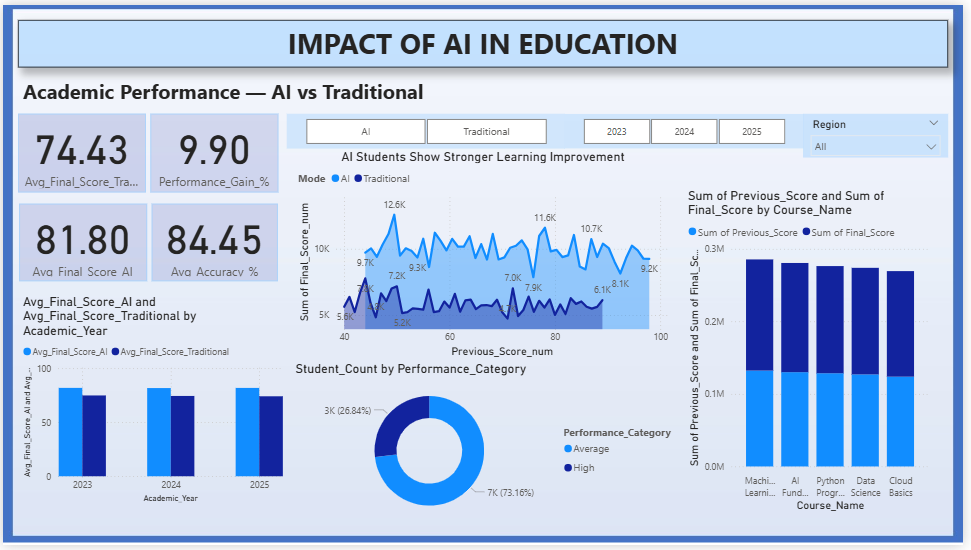

The dashboard page shown, as its layout file describes it:
{"tool":"powerbi","page":{"name":"AI vs Traditional","canvas":[1280,720],"ordinal":0},"visuals":[{"type":"textbox","box":[21.7,91.7,551.7,61.7],"z":0},{"type":"card","fields":{"Values":["AI_Data.Avg_Final_Score_AI_"]},"box":[21.7,265,170,103.3],"z":1000},{"type":"card","fields":{"Values":["AI_Data.Avg_Final_Score_Traditional"]},"box":[20,145,170,105],"z":2000},{"type":"card","fields":{"Values":["AI_Data.Performance_Gain_%"]},"box":[196.7,145,170,105],"z":3000},{"type":"card","fields":{"Values":["AI_Data.Avg_Accuracy_%"]},"box":[198.3,265,168.3,103.3],"z":4000},{"type":"areaChart","title":"AI Students Show Stronger Learning Improvement","fields":{"Category":["AI_Data.Previous_Score_num"],"Series":["AI_Data.Mode"],"Y":["Sum(AI_Data.Final_Score_num)"]},"box":[388.3,191.7,503.3,283.3],"z":5000},{"type":"donutChart","fields":{"Y":["AI_Data.Student_Count"],"Category":["AI_Data.Performance_Category"]},"box":[385,475,523.3,220],"z":6000},{"type":"clusteredColumnChart","fields":{"Y":["AI_Data.Avg_Final_Score_AI","AI_Data.Avg_Final_Score_Traditional"],"Category":["AI_Data.Academic_Year"]},"box":[21.7,385,356.7,283.3],"z":7000},{"type":"slicer","fields":{"Values":["AI_Data.Academic_Year"]},"box":[748.3,145,318.3,46.7],"z":8000},{"type":"slicer","fields":{"Values":["AI_Data.Region"]},"box":[1066.7,145,193.3,58.3],"z":9000},{"type":"textbox","box":[20,20,1240,63.3],"z":10000},{"type":"slicer","fields":{"Values":["AI_Data.Mode"]},"box":[378.3,145,370,46.7],"z":11000},{"type":"lineStackedColumnComboChart","fields":{"Category":["AI_Data.Course_Name"],"Y":["Sum(AI_Data.Previous_Score)","Sum(AI_Data.Final_Score)"]},"box":[908.3,243.3,331.7,436.7],"z":12000}]}

Visuals, with their boxes in screenshot pixels (x1, y1, x2, y2), scaled from the page's 1280x720 canvas onto the 971x550 screenshot:
textbox: bbox(16, 70, 435, 117)
card - AI_Data.Avg_Final_Score_AI_: bbox(16, 202, 145, 281)
card - AI_Data.Avg_Final_Score_Traditional: bbox(15, 111, 144, 191)
card - AI_Data.Performance_Gain_%: bbox(149, 111, 278, 191)
card - AI_Data.Avg_Accuracy_%: bbox(150, 202, 278, 281)
"AI Students Show Stronger Learning Improvement" areaChart: bbox(295, 146, 676, 363)
donutChart - AI_Data.Student_Count x AI_Data.Performance_Category: bbox(292, 363, 689, 531)
clusteredColumnChart - AI_Data.Avg_Final_Score_AI x AI_Data.Avg_Final_Score_Traditional: bbox(16, 294, 287, 511)
slicer - AI_Data.Academic_Year: bbox(568, 111, 809, 146)
slicer - AI_Data.Region: bbox(809, 111, 956, 155)
textbox: bbox(15, 15, 956, 64)
slicer - AI_Data.Mode: bbox(287, 111, 568, 146)
lineStackedColumnComboChart - AI_Data.Course_Name x Sum(AI_Data.Previous_Score): bbox(689, 186, 941, 519)
